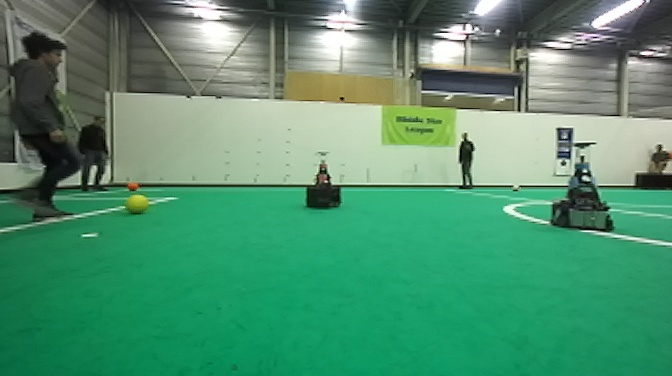ball: (123, 193, 148, 216), (124, 180, 140, 193), (510, 181, 523, 191)
human: (2, 29, 76, 220), (74, 115, 110, 193), (456, 128, 480, 189)
robot: (549, 139, 619, 234), (304, 150, 342, 211)
